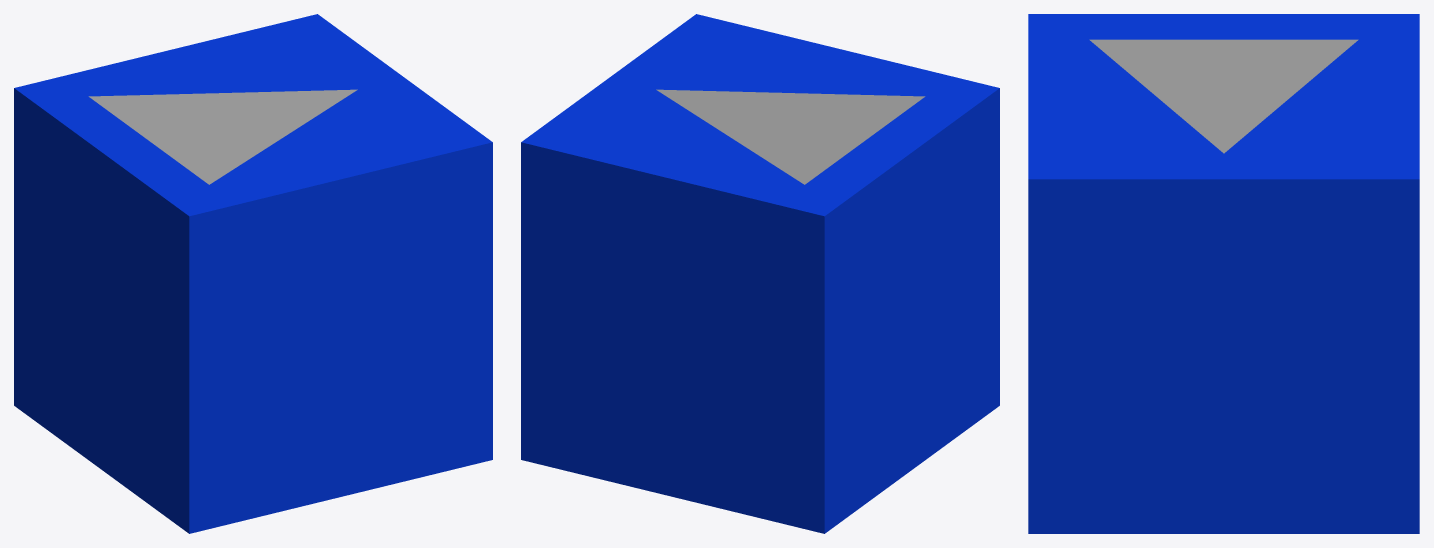
File: PLAT_TRIANGULO.fbx
3 views of the same model, side by side, from view 1: azimuth 30°, elevation 25°; view 2: azimuth 150°, elevation 25°; view 3: azimuth 270°, elevation 25° (orthographic). The views are drawn at different scales.
Visible parts, largest first — view 1: Cube.003; view 2: Cube.003; view 3: Cube.003.
Part boxes in pixels (left/top/right/bottom): Cube.003: left=14, top=14, right=492, bottom=533; Cube.003: left=521, top=14, right=999, bottom=533; Cube.003: left=1028, top=14, right=1419, bottom=533.
Size of the model in its own units: 200 by 200 by 200.
